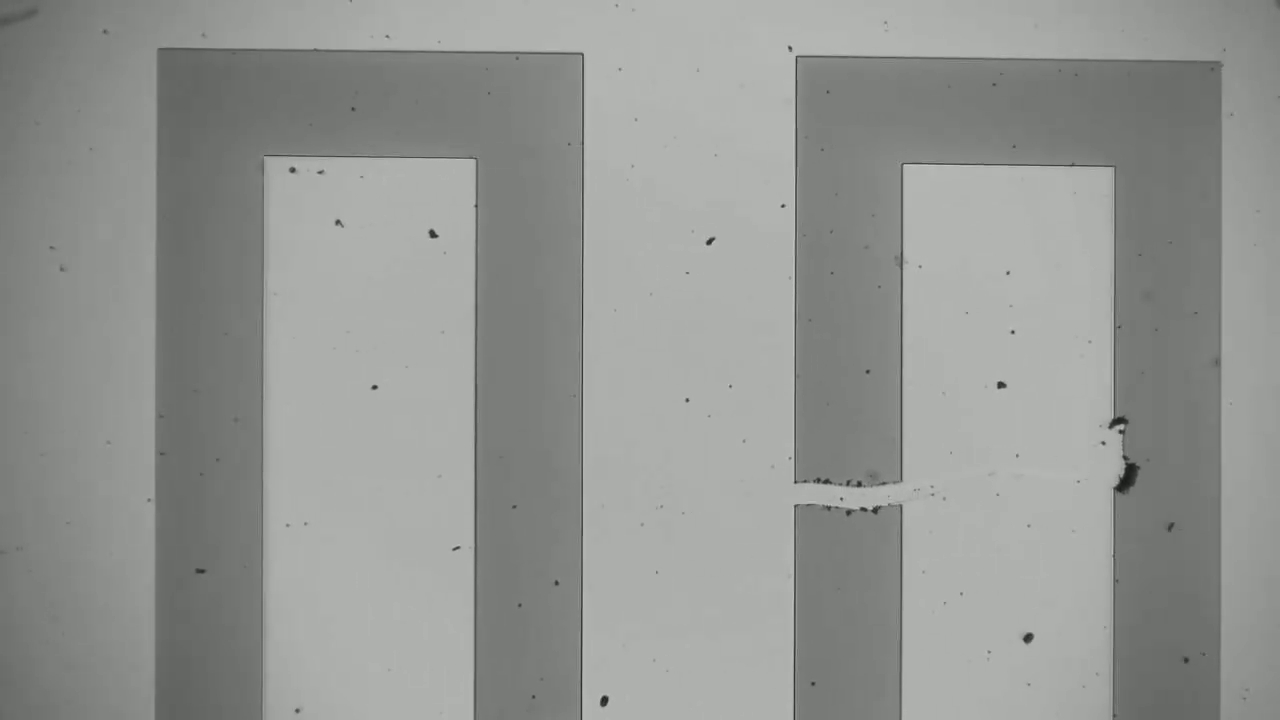Short_circuit: (762, 453, 936, 539)
